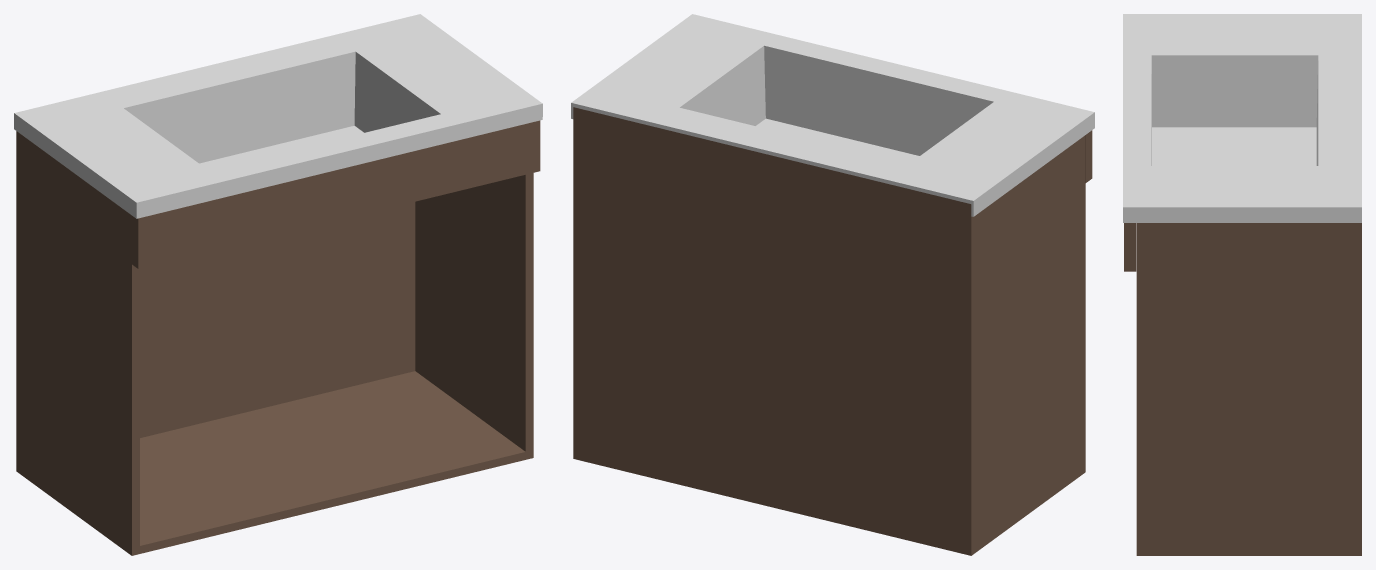
The model's file is Bathroom_C2_09.fbx.
3 views of the same model, side by side, from view 1: azimuth 30°, elevation 25°; view 2: azimuth 150°, elevation 25°; view 3: azimuth 270°, elevation 25° (orthographic). The views are drawn at different scales.
Parts seen in each view (by area): view 1: Bathroom_C2_09; view 2: Bathroom_C2_09; view 3: Bathroom_C2_09.
Part boxes in pixels (x1,y1,x2,y2): Bathroom_C2_09: [14, 14, 542, 555]; Bathroom_C2_09: [571, 14, 1094, 555]; Bathroom_C2_09: [1123, 14, 1361, 555].
Size of the model in its own units: 91 by 76.82 by 47.51.
